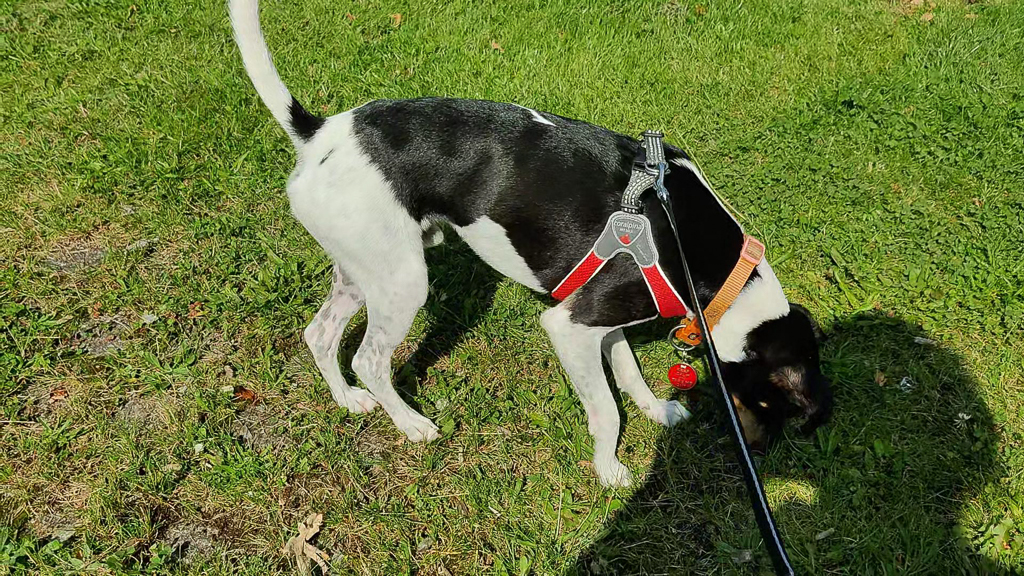Dog: (223, 0, 852, 509)
